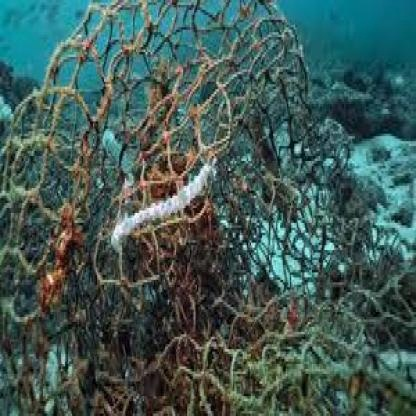net: (3, 2, 387, 416)
